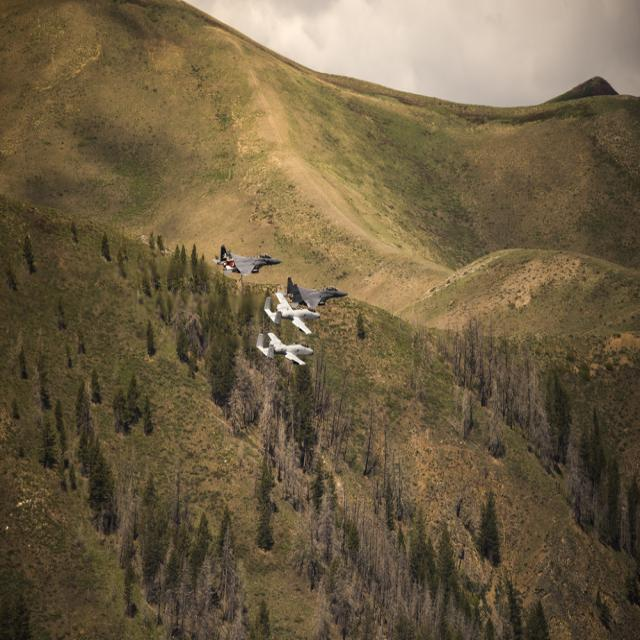MIL_Plane: (263, 292, 321, 336), (280, 276, 348, 310), (211, 244, 282, 276), (255, 332, 315, 367)
